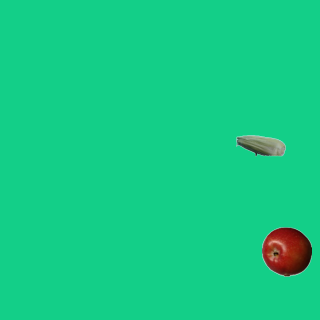Apple Braeburn: (261, 226, 311, 276)
Corn Husk: (235, 120, 285, 170)
